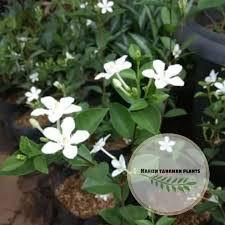jasmine: (20, 69, 87, 161), (100, 44, 181, 98), (90, 132, 138, 181), (197, 59, 224, 97)
